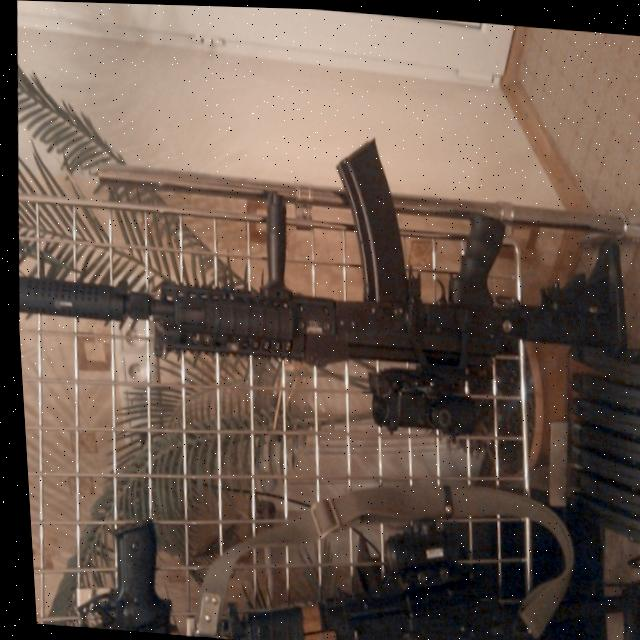firearm: (5, 109, 640, 455)
